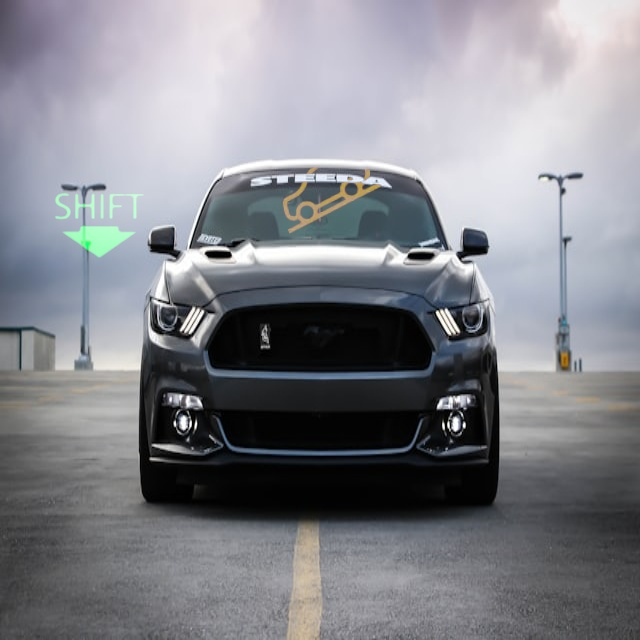symbol: (268, 128, 399, 259), (38, 162, 158, 282)
